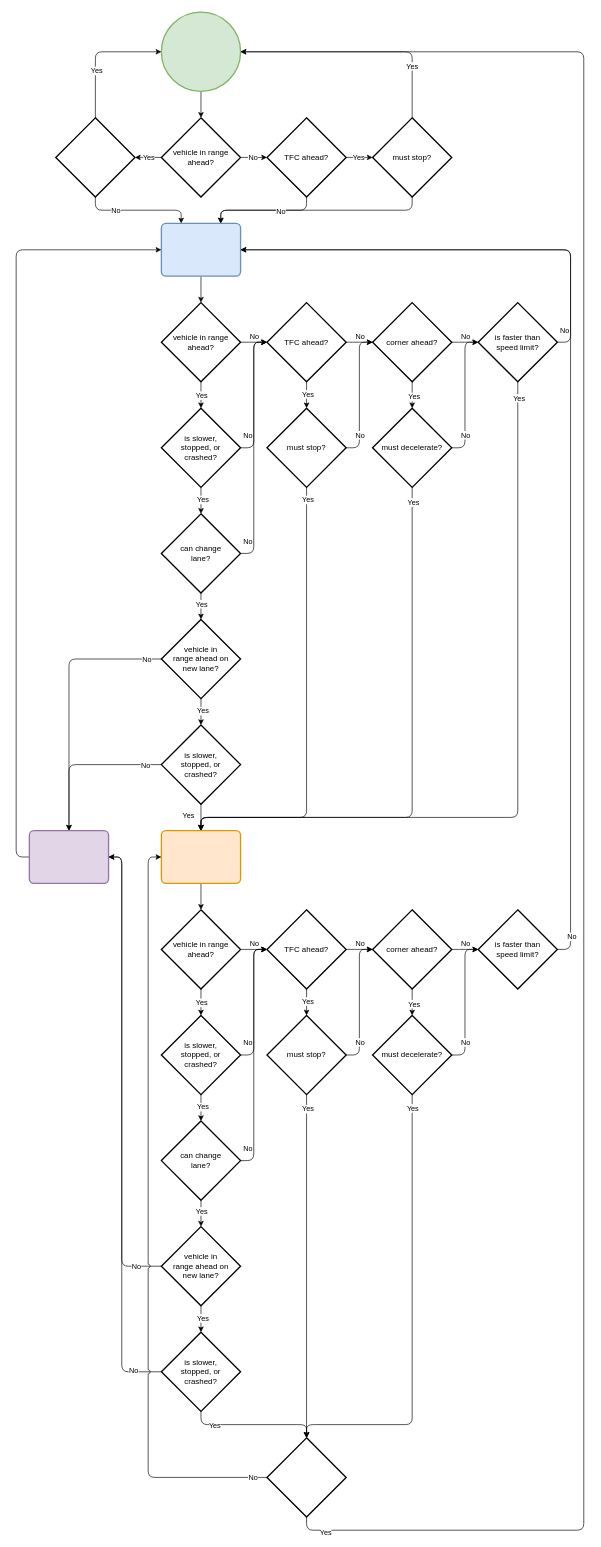
This 601x1547 diagram has some shape labels left out. Here are the shapes that lost their labels. From the top down, the centre of each, then its label:
the point at 200,51: stopped
the point at 95,157: is stopped, or crashed?
the point at 200,249: accelerating
the point at 68,857: changing lanes
the point at 200,857: decelerating
the point at 306,1477: is nearly stopped?
